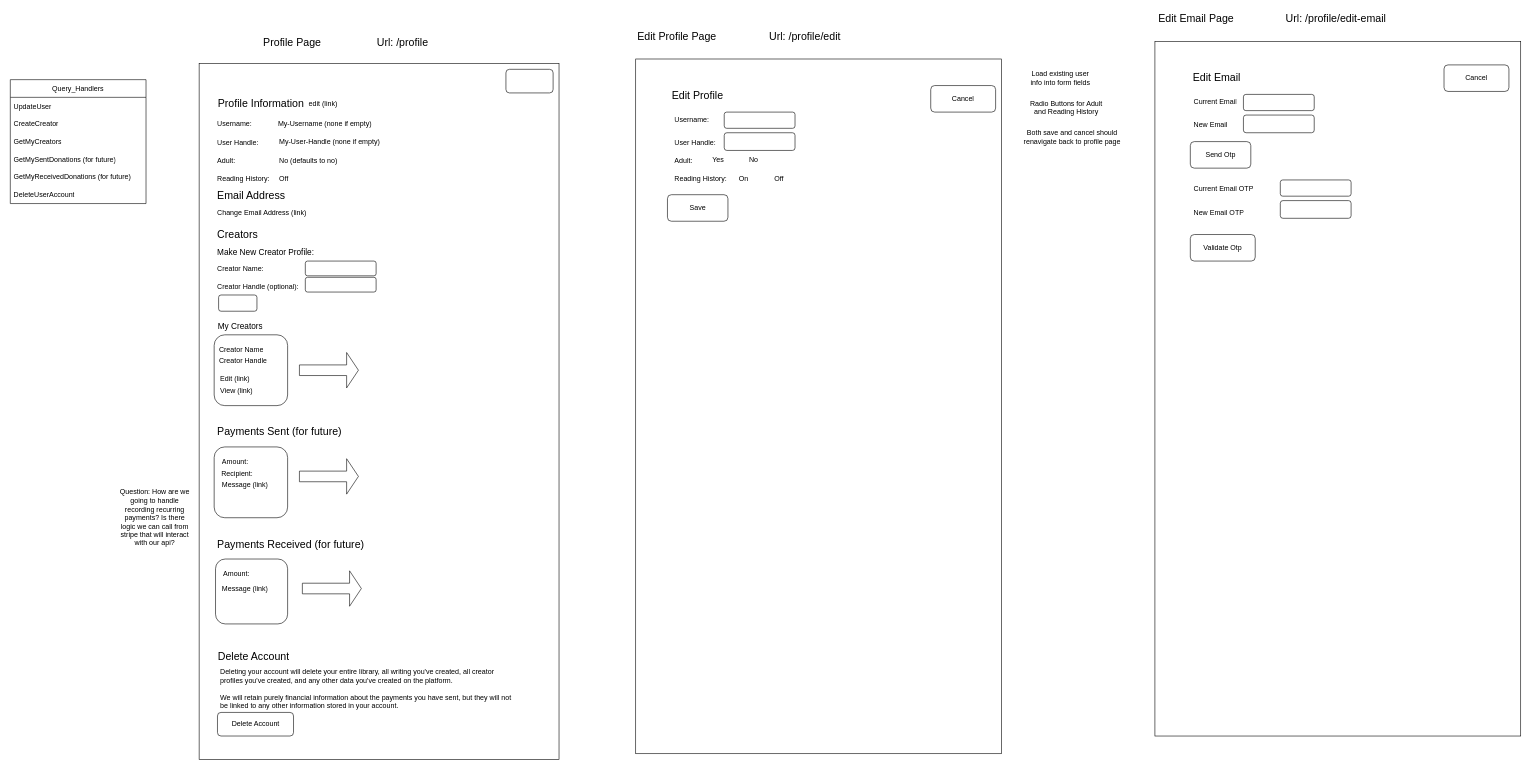
Image size: 1531x770. Some labels were removed from this diagram. Each missing label, with the centre of its shape:
"Create" belongs at (237,302).
"Logout" belongs at (529,81).
